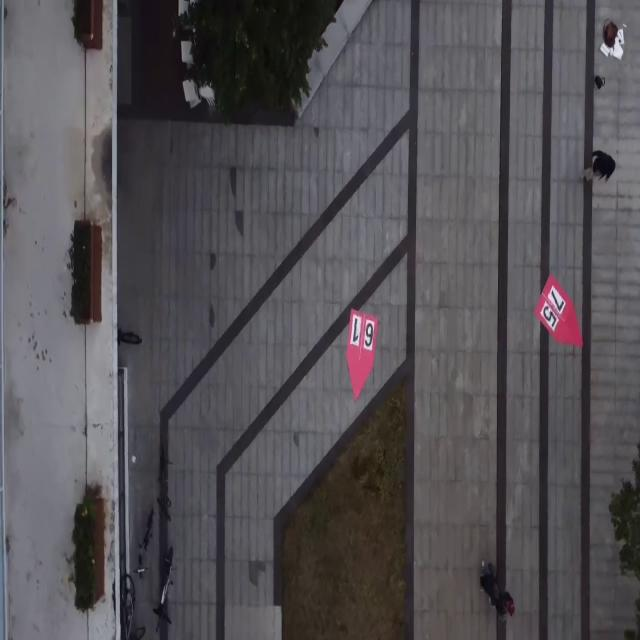-sign-: (534, 273, 583, 348), (346, 307, 378, 400)
